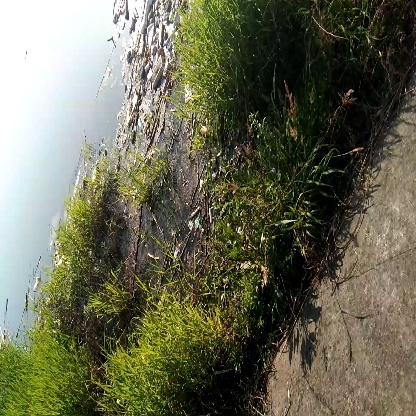plastic-bag: (117, 317, 233, 405)
